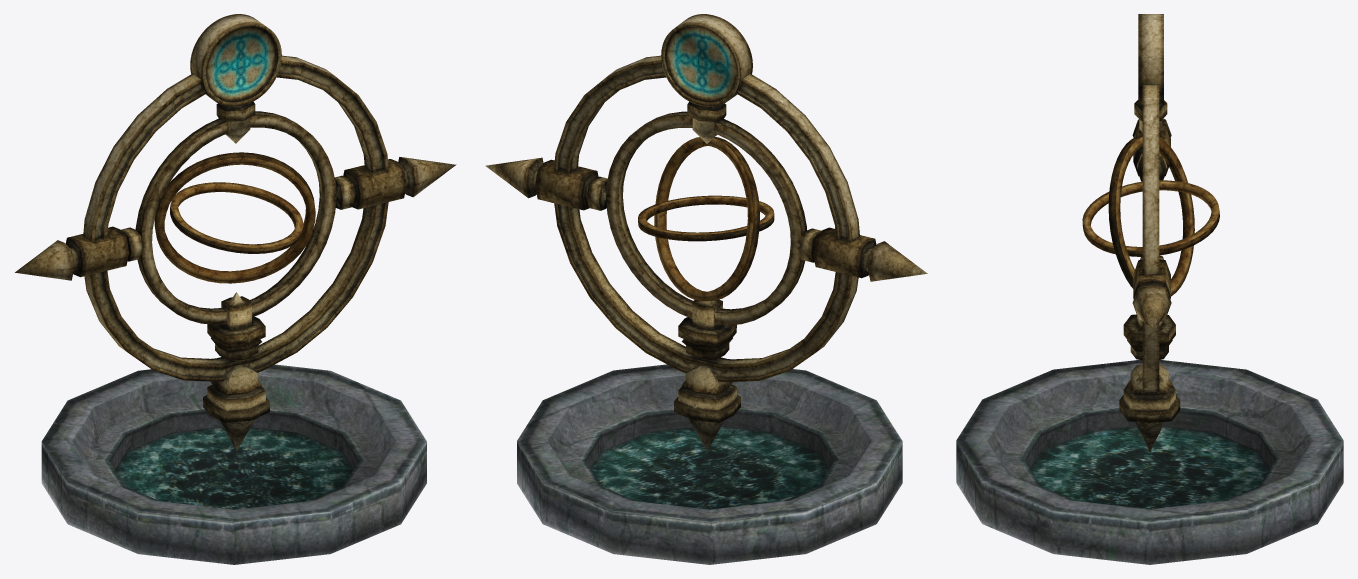
The model's file is chaosgate.obj.
3 views of the same model, side by side, from view 1: azimuth 30°, elevation 25°; view 2: azimuth 150°, elevation 25°; view 3: azimuth 270°, elevation 25° (orthographic).
Visible parts, largest first — view 1: platform_Cylinder.016, outring.001_Cube.000, outerring_Cube.017, outerring.001_Cube.018; view 2: platform_Cylinder.016, outring.001_Cube.000, outerring_Cube.017, outerring.001_Cube.018; view 3: platform_Cylinder.016, outring.001_Cube.000, outerring_Cube.017, outerring.001_Cube.018.
Boxes of the visible parts, x1,y1,x2,y2 form: platform_Cylinder.016: [41, 364, 426, 564]; outring.001_Cube.000: [15, 14, 456, 451]; outerring_Cube.017: [154, 152, 315, 283]; outerring.001_Cube.018: [170, 182, 303, 253]; platform_Cylinder.016: [517, 364, 902, 564]; outring.001_Cube.000: [485, 14, 927, 450]; outerring_Cube.017: [654, 137, 759, 301]; outerring.001_Cube.018: [638, 195, 774, 241]; platform_Cylinder.016: [956, 360, 1343, 564]; outring.001_Cube.000: [1119, 14, 1180, 451]; outerring_Cube.017: [1108, 136, 1194, 296]; outerring.001_Cube.018: [1082, 180, 1219, 256].
Bounding box in the file's own units: 6.57 × 6.57 × 4.96.
